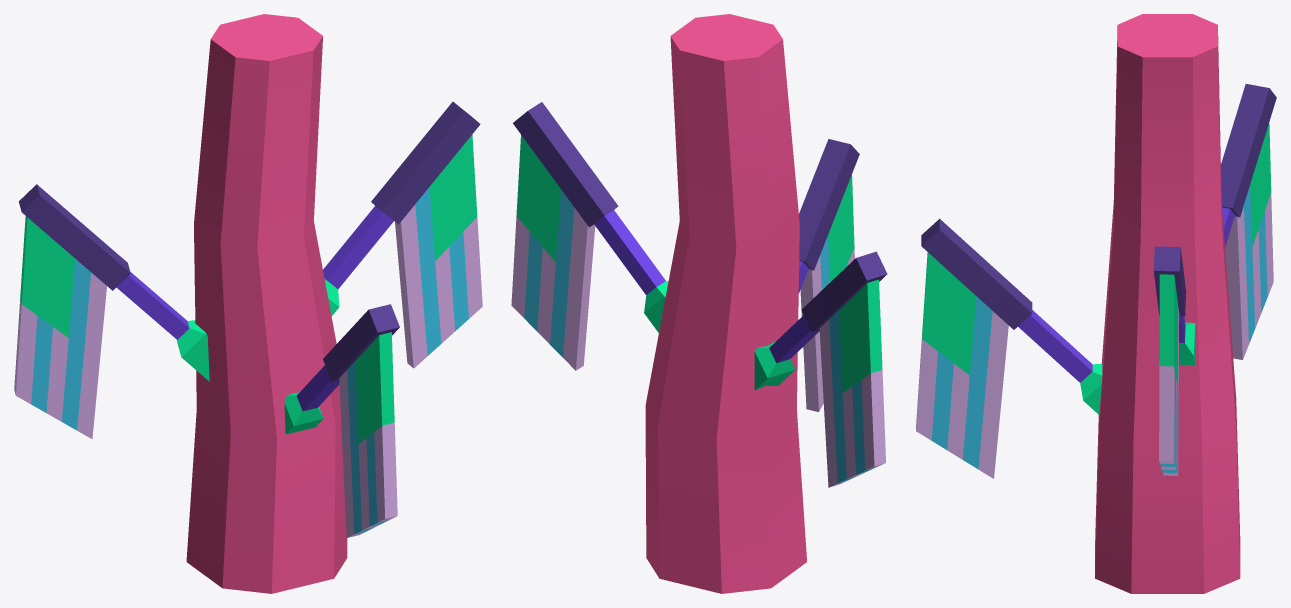
The model's file is 018_Flags.fbx.
The picture shows the model from 3 angles, left to right: view 1: azimuth 30°, elevation 25°; view 2: azimuth 150°, elevation 25°; view 3: azimuth 270°, elevation 25°; orthographic projection.
Parts seen in each view (by area): view 1: FLAGS1; view 2: FLAGS1; view 3: FLAGS1.
Part boxes in pixels (x1,y1,x2,y2): FLAGS1: [14, 14, 482, 593]; FLAGS1: [511, 14, 887, 593]; FLAGS1: [916, 14, 1276, 593].
Size of the model in its own units: 83.63 by 100 by 61.96.
